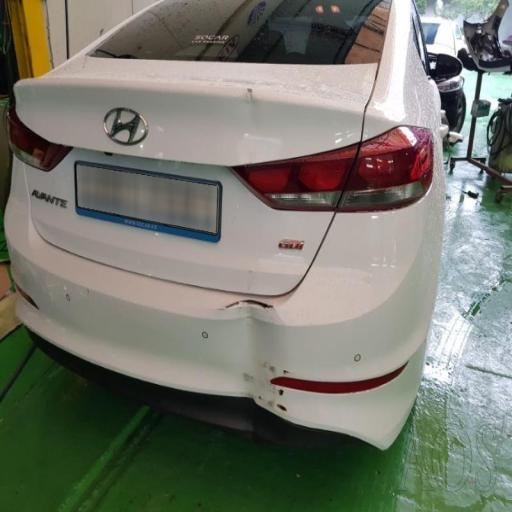dent: (220, 256, 304, 437), (224, 67, 289, 165)
